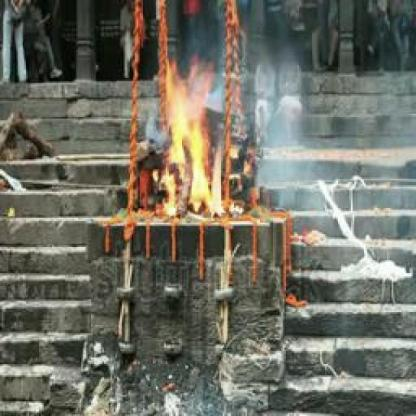fire: (160, 67, 228, 214)
